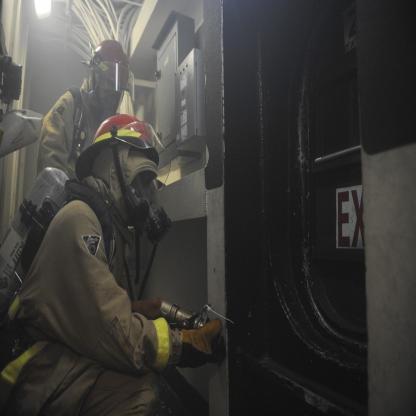Helmet: (73, 117, 159, 208), (86, 36, 134, 116)
